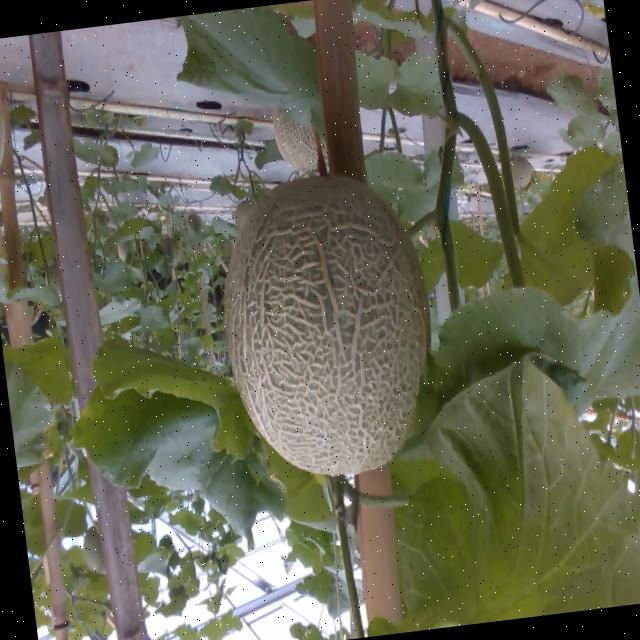melon: (222, 173, 427, 475)
